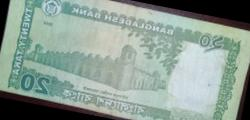20 taka: (13, 3, 246, 109)
